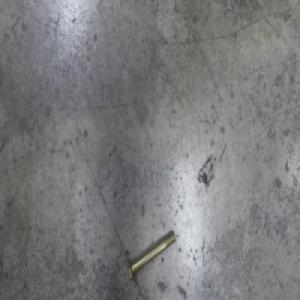Bolt: (125, 228, 175, 286)
